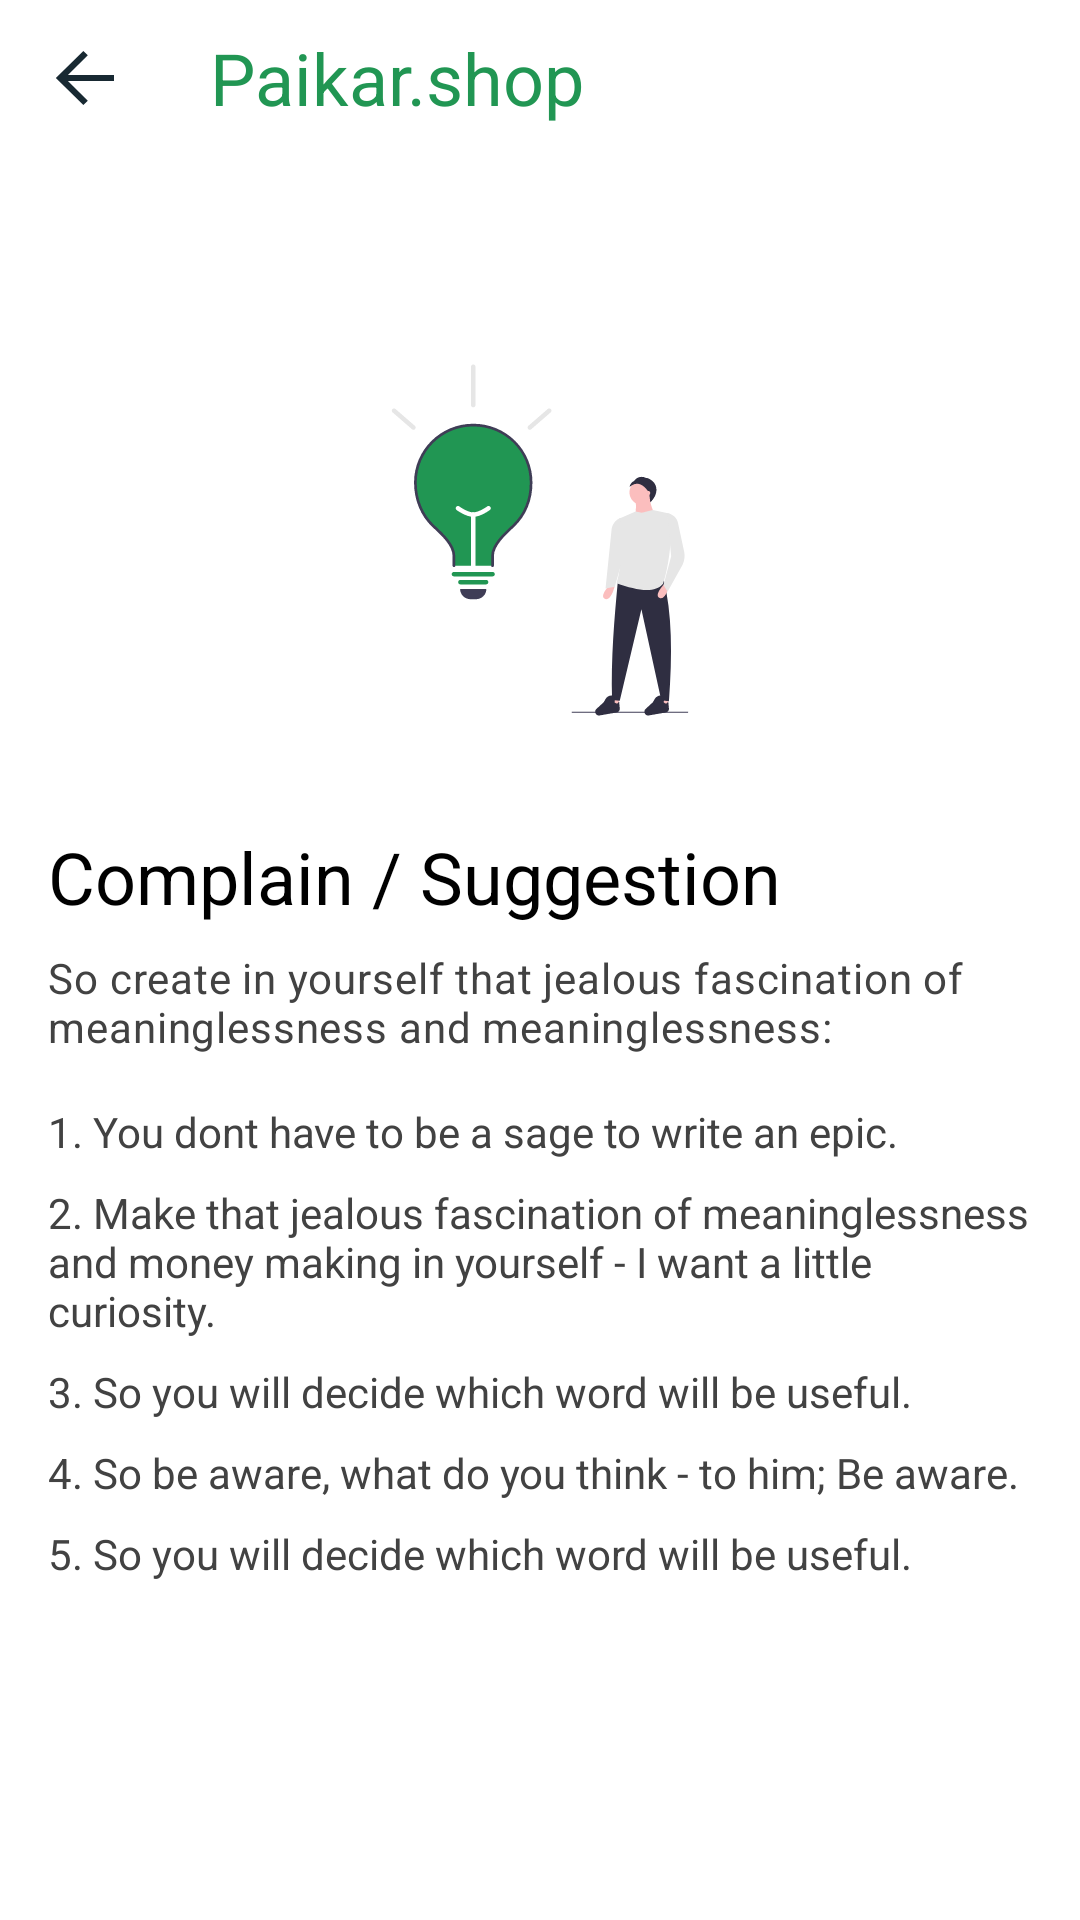

Icons on this 1080x1920 Android screen, each with the point to tap as (x=x, y=y):
arrow left: (x=85, y=78)
illustration complain or suggestion: (x=540, y=540)
